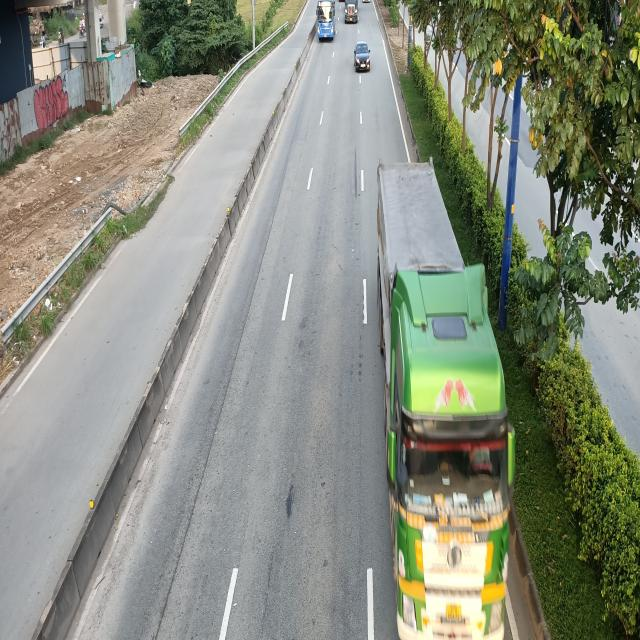car: (354, 42, 370, 73)
coach: (315, 0, 336, 40)
container: (372, 167, 516, 640), (343, 0, 359, 22)
